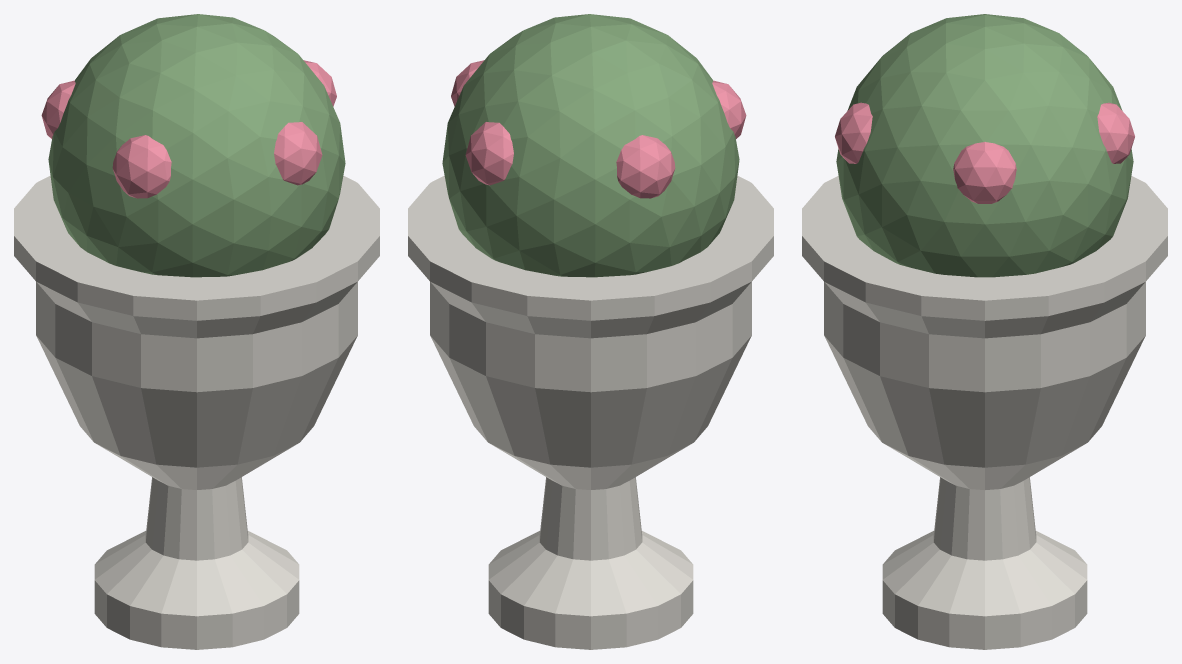
File: urn.glb
3 views of the same model, side by side, from view 1: azimuth 30°, elevation 25°; view 2: azimuth 150°, elevation 25°; view 3: azimuth 270°, elevation 25° (orthographic).
Parts seen in each view (by area): view 1: urn_trim, urn_hedge, urn_flower; view 2: urn_trim, urn_hedge, urn_flower; view 3: urn_trim, urn_hedge, urn_flower.
Boxes of the visible parts, <box> form: urn_trim: <box>14,175,379,649</box>; urn_hedge: <box>48,14,345,277</box>; urn_flower: <box>41,60,336,198</box>; urn_trim: <box>408,175,773,649</box>; urn_hedge: <box>442,14,739,277</box>; urn_flower: <box>451,60,746,198</box>; urn_trim: <box>802,176,1167,649</box>; urn_hedge: <box>836,14,1133,277</box>; urn_flower: <box>835,102,1134,203</box>.
Size of the model in its own units: 0.5 by 0.86 by 0.4924.
